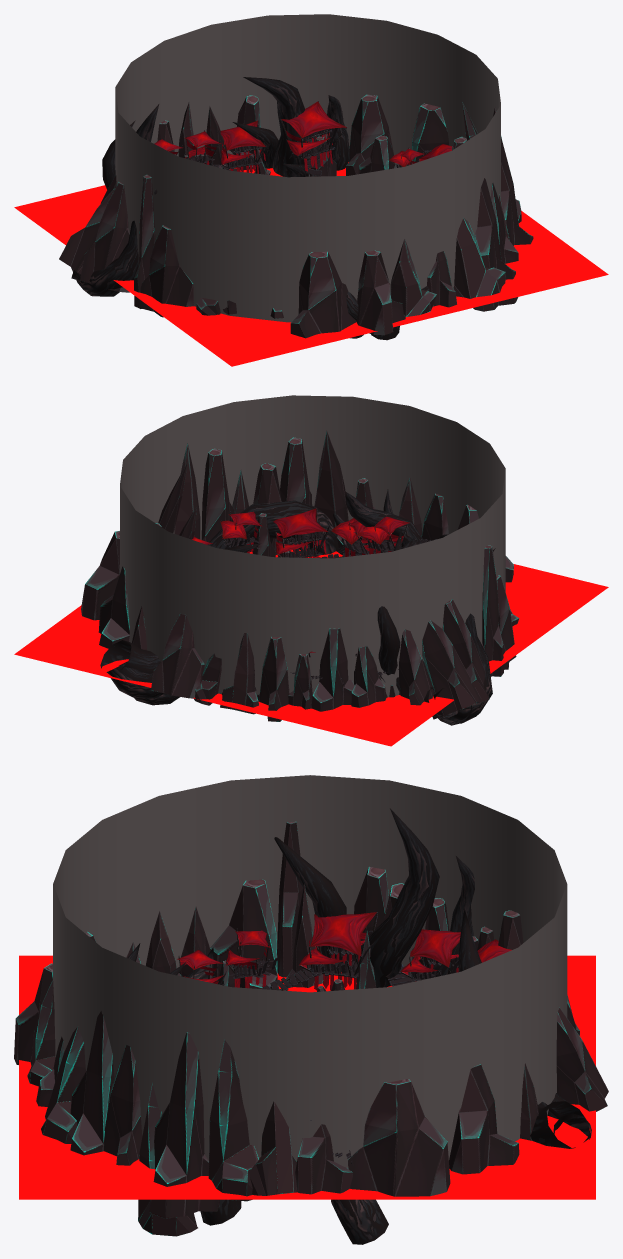
The model's file is Arena_Base.fbx.
3 renders of one model, top to bottom at view 1: azimuth 30°, elevation 25°; view 2: azimuth 150°, elevation 25°; view 3: azimuth 270°, elevation 25°, orthographic. The views are drawn at different scales.
Visible parts, largest first — view 1: wall, rock_setup, magma, structure; view 2: wall, rock_setup, magma, structure; view 3: wall, rock_setup, magma, structure.
Part boxes in pixels (box(x1,y1,x2,y2)): wall: box(115, 14, 500, 322); rock_setup: box(59, 77, 533, 340); magma: box(14, 162, 608, 366); structure: box(154, 130, 431, 167); wall: box(120, 395, 505, 697); rock_setup: box(81, 430, 519, 725); magma: box(14, 549, 608, 746); structure: box(192, 508, 409, 693); wall: box(53, 775, 567, 1168); rock_setup: box(14, 808, 608, 1244); magma: box(19, 955, 595, 1199); structure: box(177, 912, 511, 990).
Size of the model in its own units: 1002 by 474 by 976.
